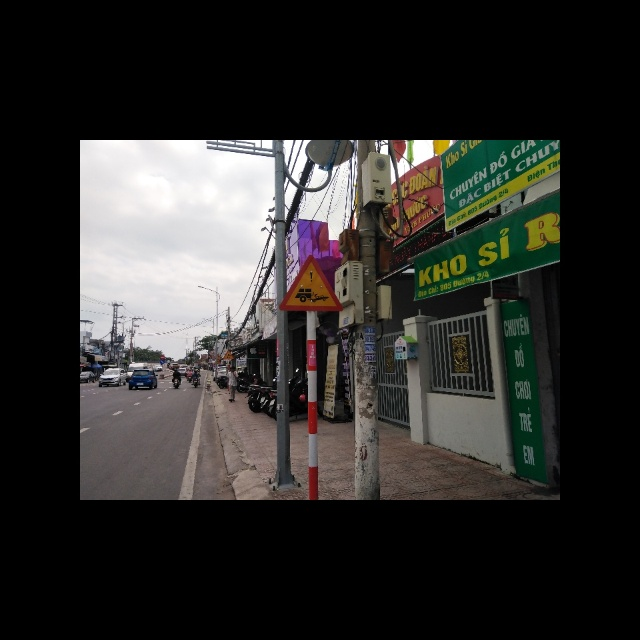Đoạn đường hay xảy ra tai nạn: (278, 252, 342, 310)
Đường đôi: (222, 348, 235, 360)
